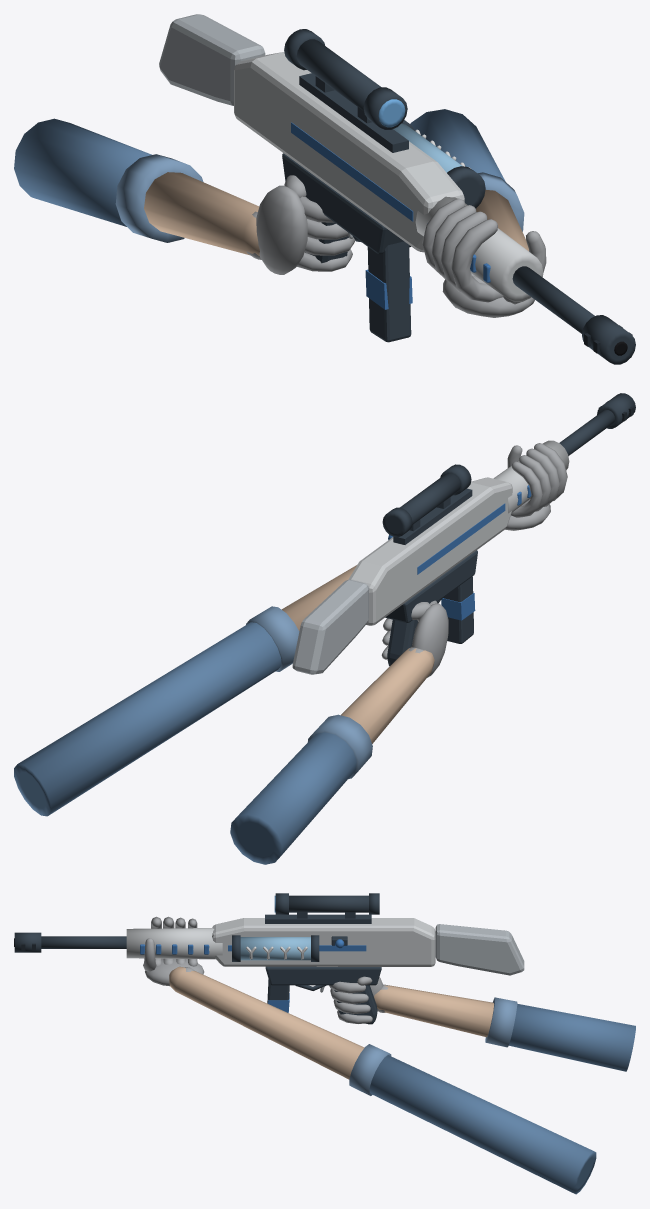
The model's file is b_cell.glb.
3 renders of one model, top to bottom at view 1: azimuth 30°, elevation 25°; view 2: azimuth 150°, elevation 25°; view 3: azimuth 270°, elevation 25°, orthographic. The views are drawn at different scales.
Parts seen in each view (by area): view 1: w_b_cell.body, w_b_cell.arm_r, w_b_cell.arm_l, w_b_cell.mag; view 2: w_b_cell.arm_l, w_b_cell.body, w_b_cell.arm_r, w_b_cell.mag; view 3: w_b_cell.body, w_b_cell.arm_l, w_b_cell.arm_r, w_b_cell.mag.
Boxes of the visible parts, box(x1,y1,x2,y2) form: w_b_cell.body: box(159, 14, 635, 364); w_b_cell.arm_r: box(14, 118, 355, 274); w_b_cell.arm_l: box(410, 109, 546, 317); w_b_cell.mag: box(365, 241, 412, 342); w_b_cell.arm_l: box(14, 443, 567, 816); w_b_cell.body: box(292, 393, 635, 674); w_b_cell.arm_r: box(230, 600, 448, 864); w_b_cell.mag: box(441, 576, 475, 643); w_b_cell.body: box(14, 893, 524, 1024); w_b_cell.arm_l: box(143, 916, 596, 1194); w_b_cell.arm_r: box(329, 976, 635, 1071); w_b_cell.mag: box(267, 979, 289, 1012).
Bounding box in the file's own units: 0.5226 × 0.4346 × 1.17.
